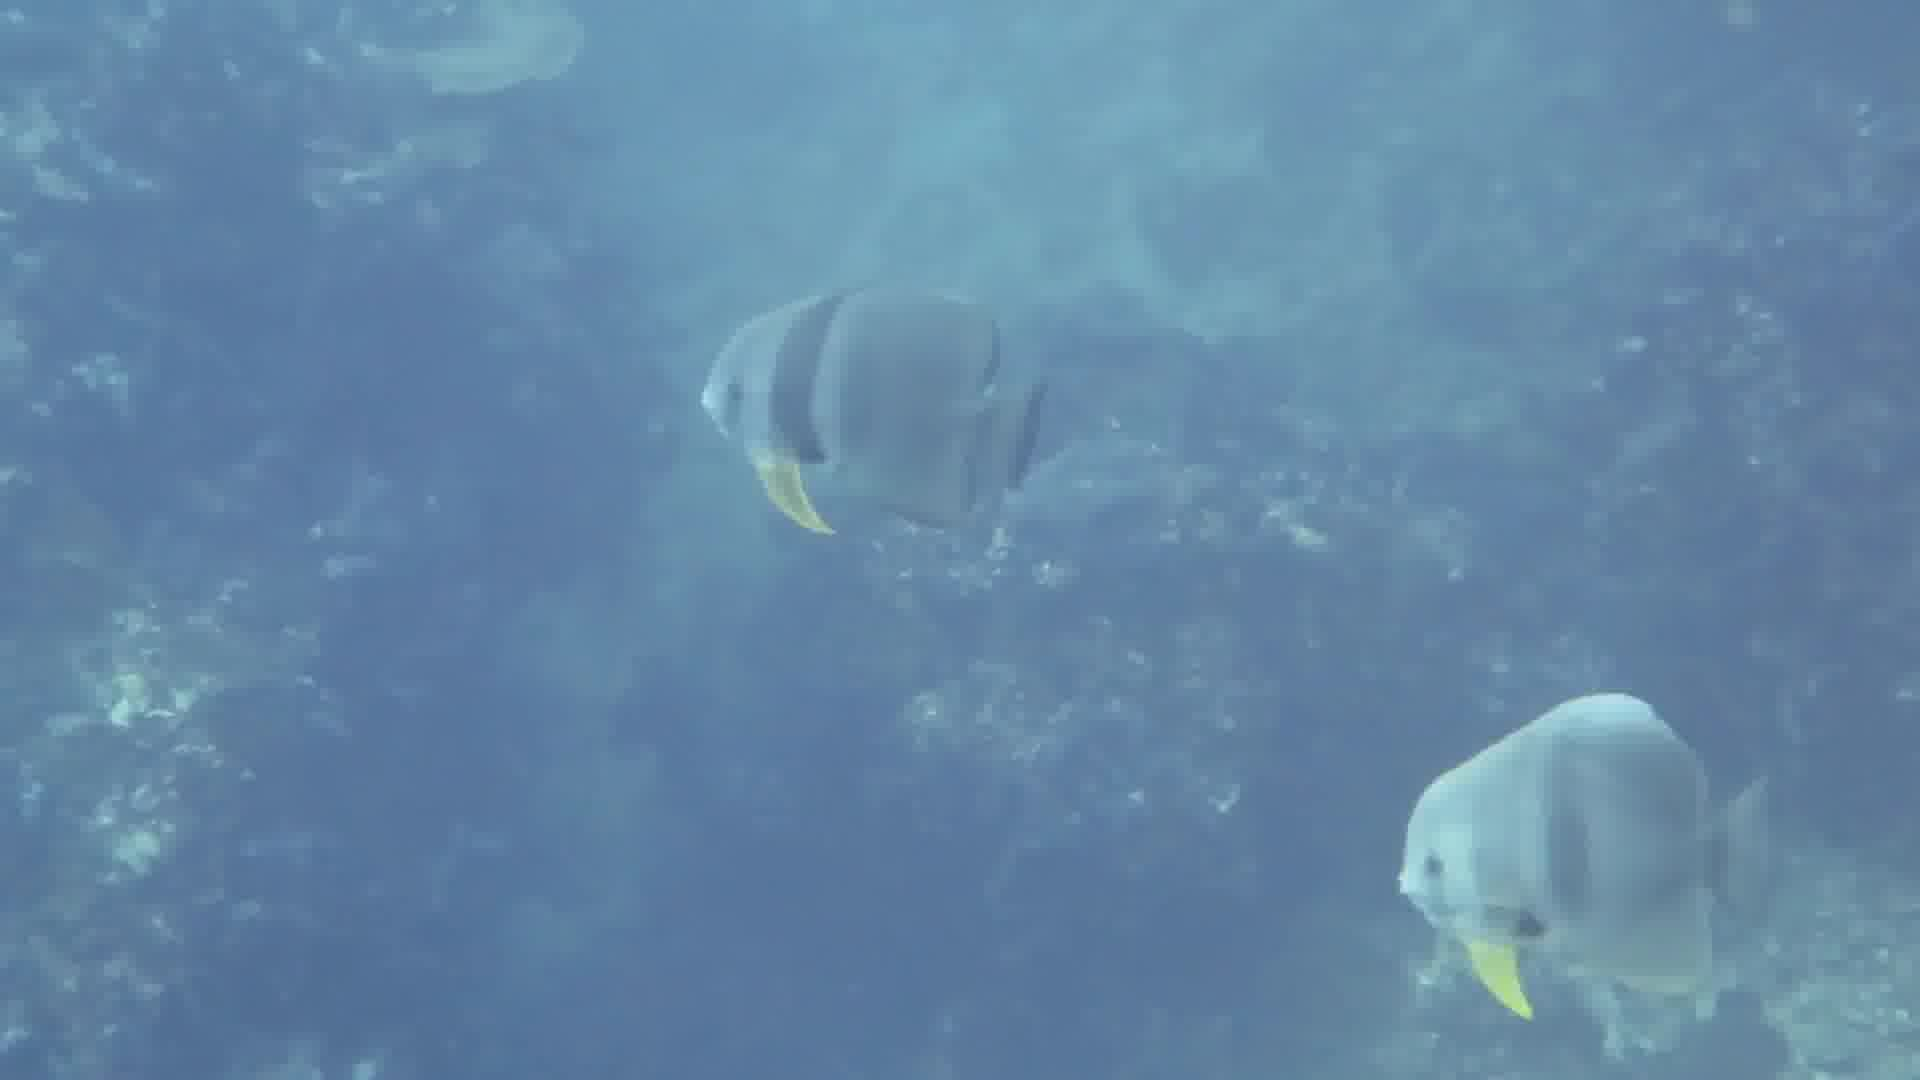Platax teira: (683, 189, 1110, 607), (1371, 644, 1799, 1060)
